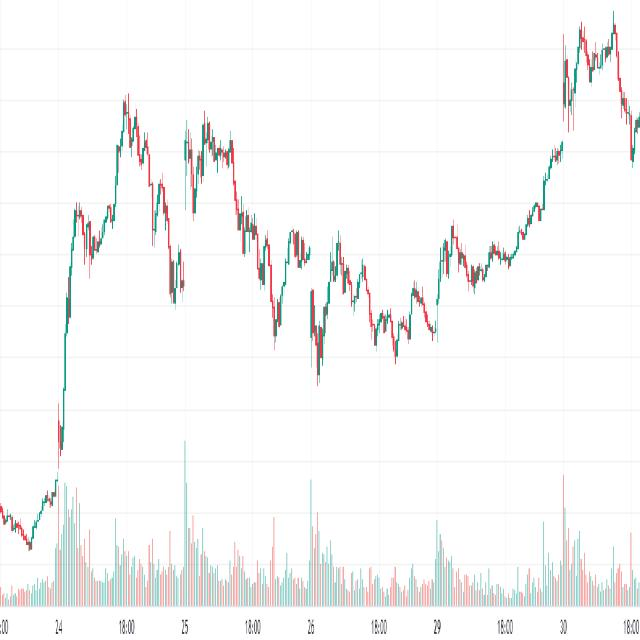Rounding-Bottom: (227, 129, 566, 400)
